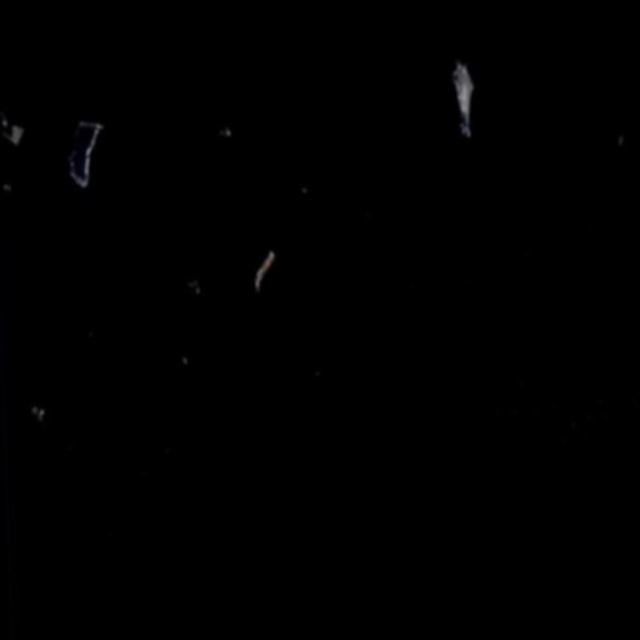large_debris: (47, 112, 106, 217), (428, 58, 475, 153), (237, 232, 278, 318), (0, 102, 24, 182), (25, 401, 51, 441)
